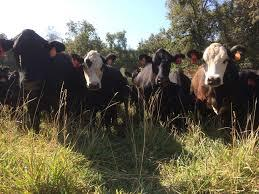cow: (0, 31, 73, 132), (186, 45, 245, 137), (132, 47, 187, 120), (72, 51, 113, 91)
